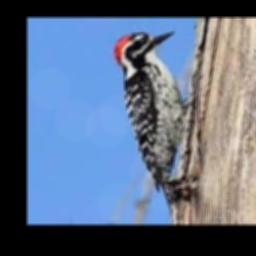Woodpecker: (113, 31, 187, 201)
